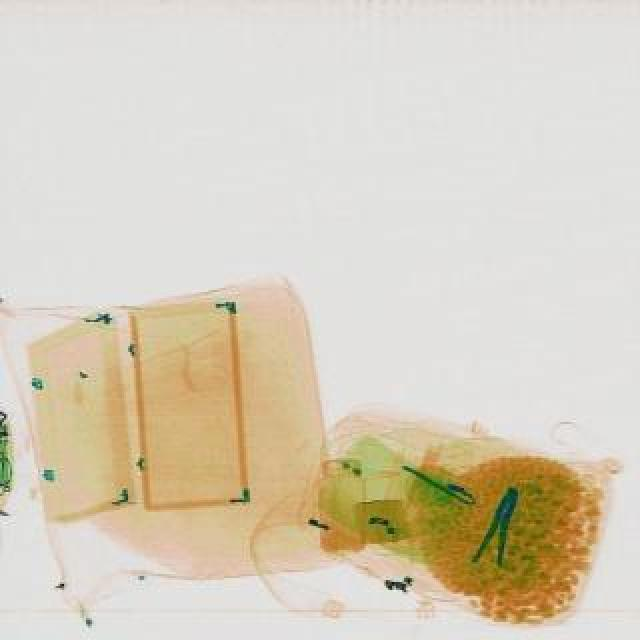wrench: (466, 484, 526, 570)
